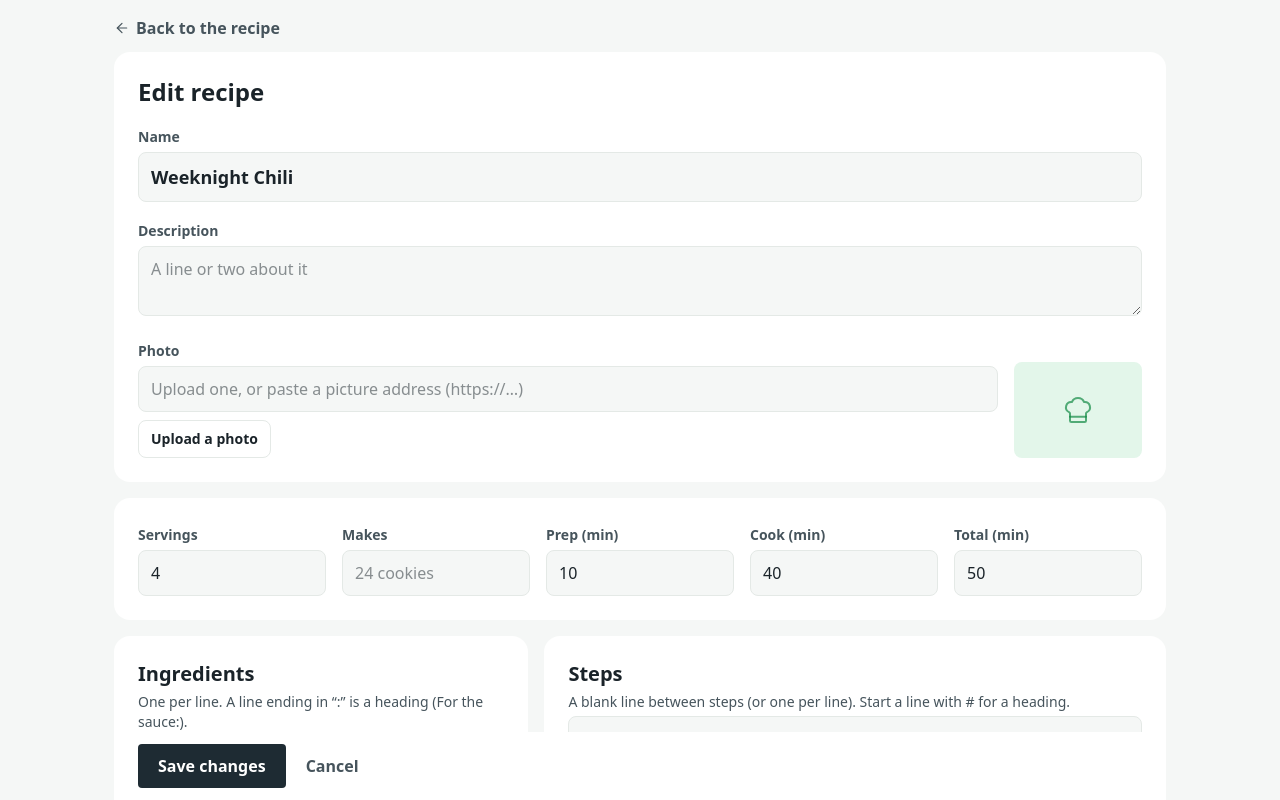
it: saving changes with recipe versioning › cancel goes back to the form and saves nothing
The width and height of the screenshot is (1280, 800).
Type "!" into the field labelled "Name" at (640, 177), box [138, 152, 1142, 202]
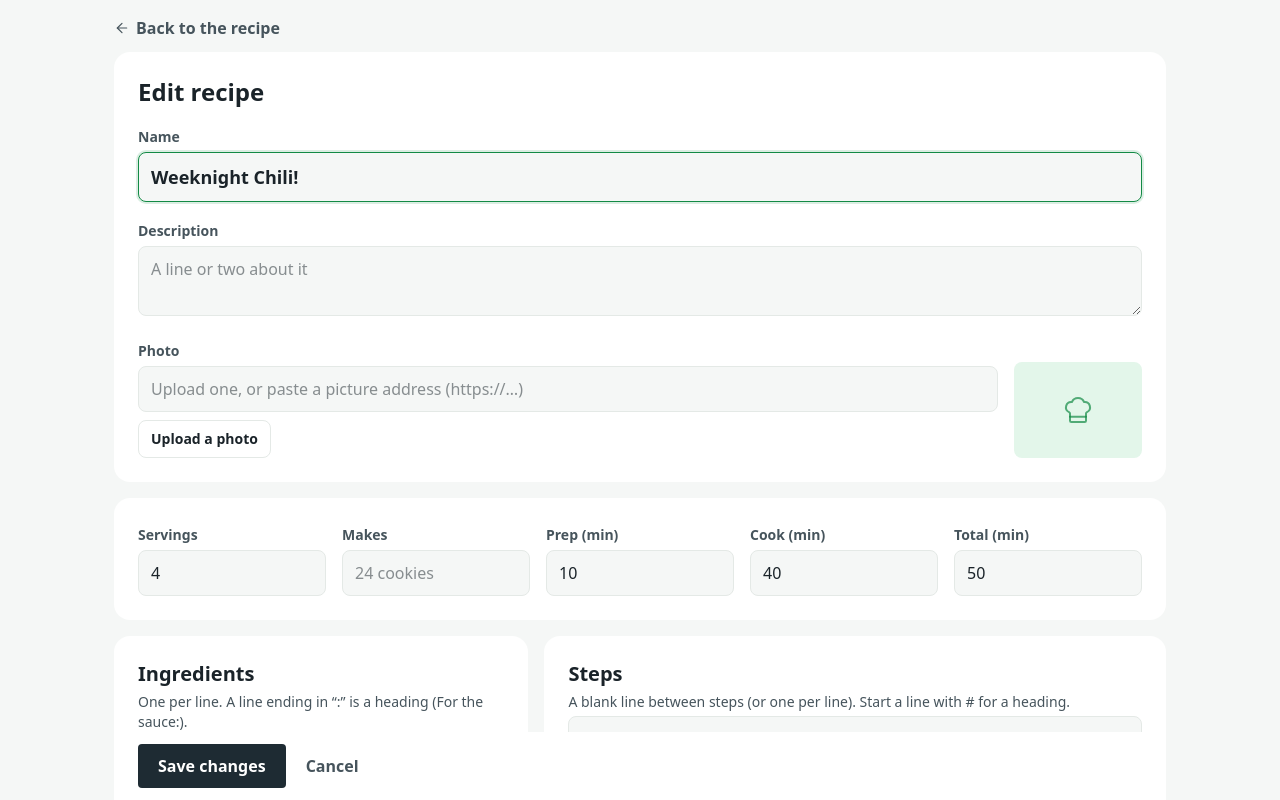
Click the button "Save changes" at (212, 766), box [138, 744, 286, 788]
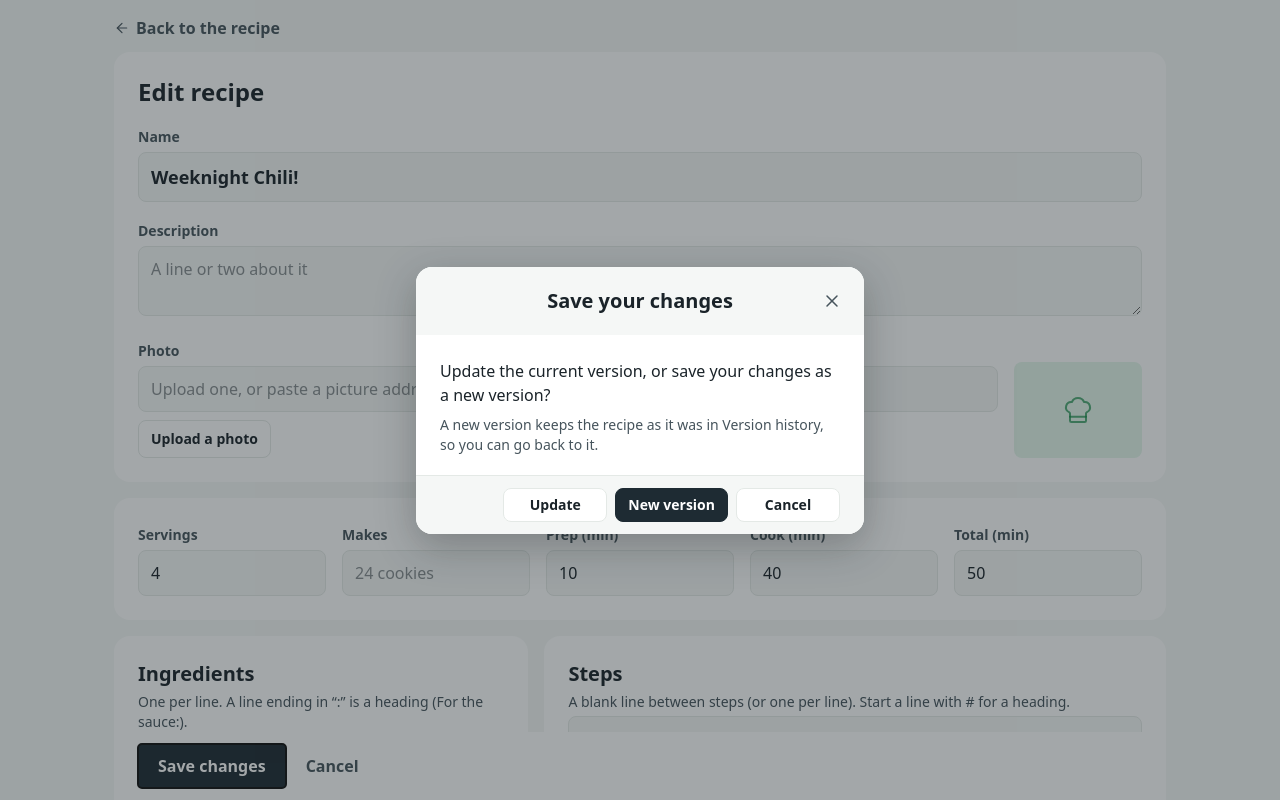
Click the button "Cancel" at (788, 504), box [736, 488, 840, 522]
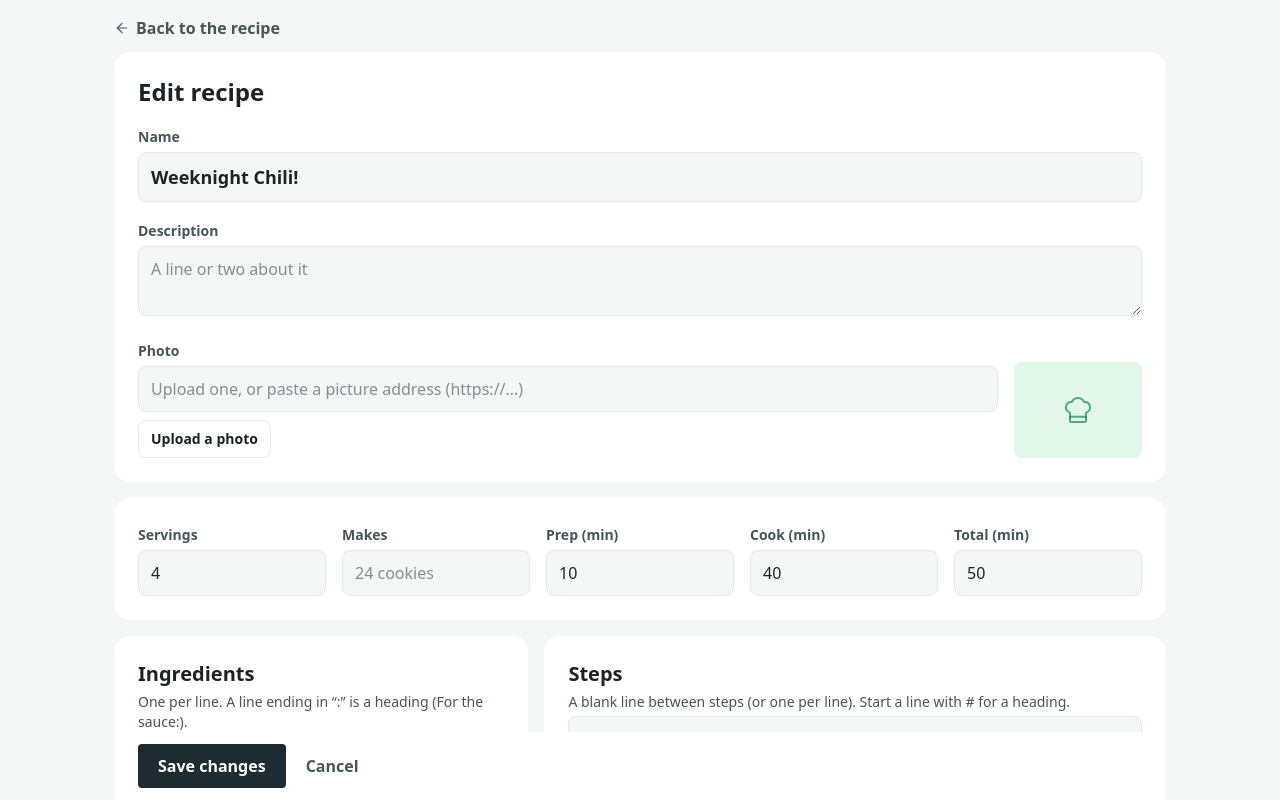
Now the field labelled "Name" holds "Weeknight Chili!", box [138, 152, 1142, 202]
Now the heading "Save your changes" is gone
